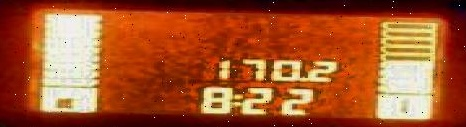-: (297, 74, 305, 83)
0: (269, 57, 300, 80)
1: (214, 56, 227, 81)
2: (279, 86, 313, 114), (240, 86, 268, 114), (307, 59, 336, 81)
7: (237, 56, 263, 80)
8: (196, 84, 230, 113)
X: (229, 91, 237, 106)
